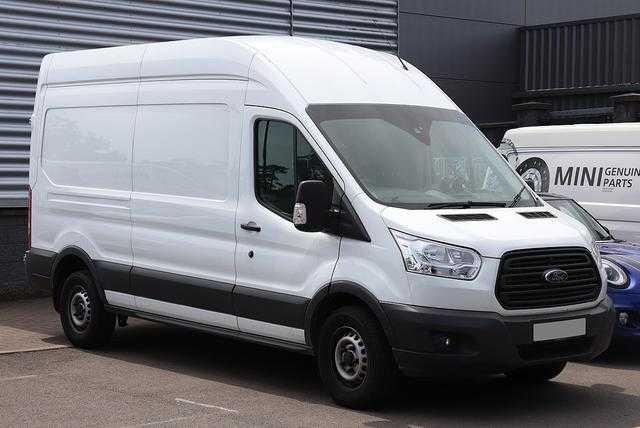car: (17, 11, 635, 403)
